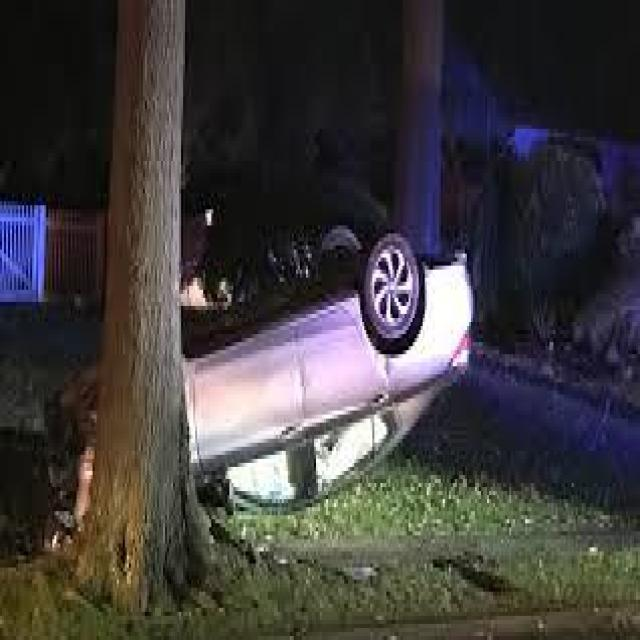severe: (44, 188, 473, 538)
